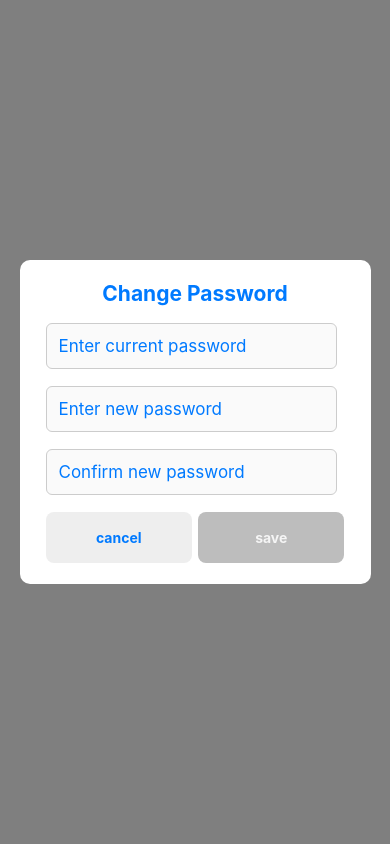
Test case: ChangePasswordModal › shows error message when passwords do not match
The width and height of the screenshot is (390, 844).
In the password field with placeholder "Enter new password": (191, 409) [46,386,336,432], type "newpass123"
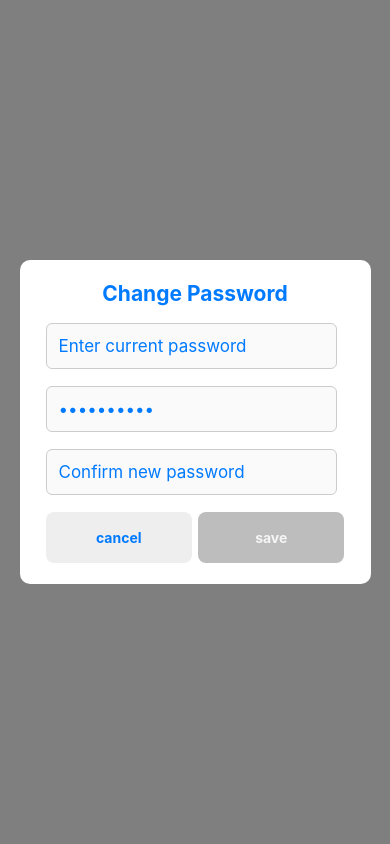
In the password field with placeholder "Confirm new password": (191, 472) [46,449,336,495], type "differentpass123"
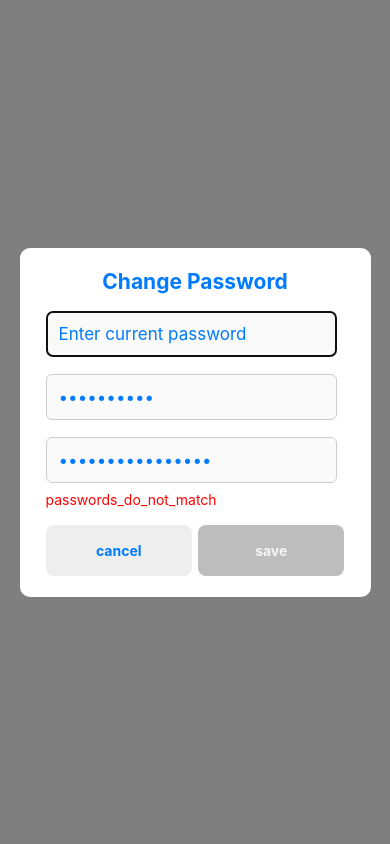
Expected: the text "passwords_do_not_match" is shown, [46,490,217,508]
